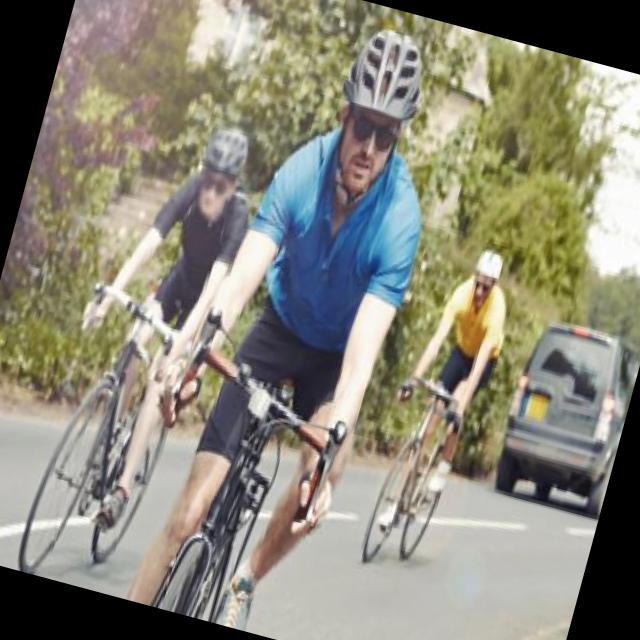With Helmet: (319, 12, 440, 184), (188, 118, 254, 230), (460, 242, 508, 324)
